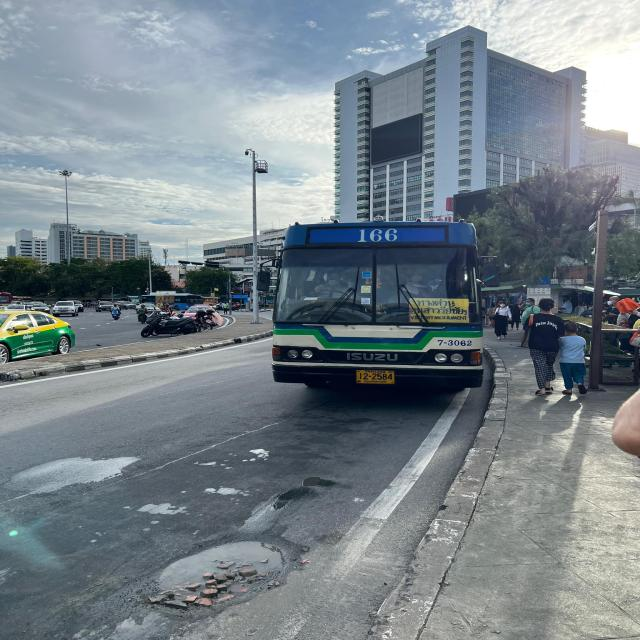BMTA-bus: (267, 212, 490, 396)
Bus-Line-Number: (353, 225, 402, 244)
Destination-Sign-Normal-Expressway: (408, 298, 469, 324)
